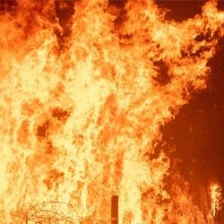fire: (1, 4, 223, 223)
